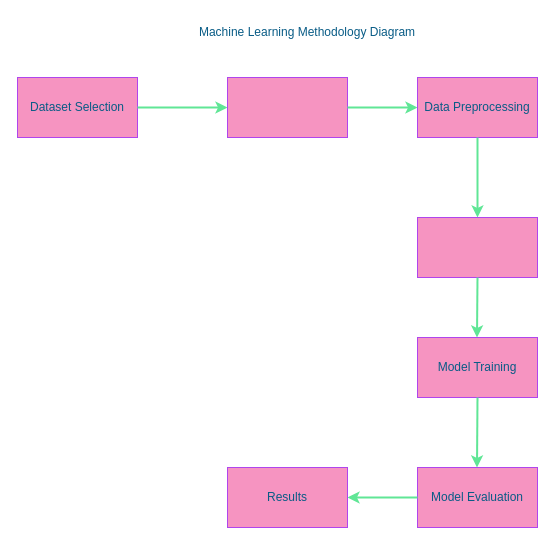
Some shapes in this 555 by 545 pixel diagram are drawn without their labels. Each missing label, with the box of its shape:
Data loading: (226, 76, 348, 138)
Train / Test Split: (416, 216, 538, 278)
